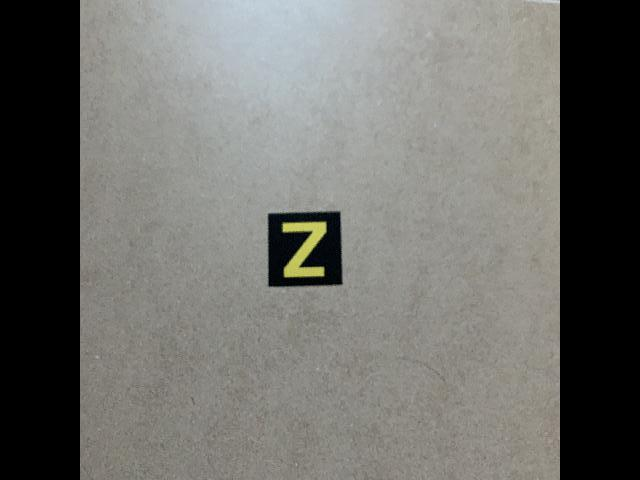z: (266, 211, 343, 288)
